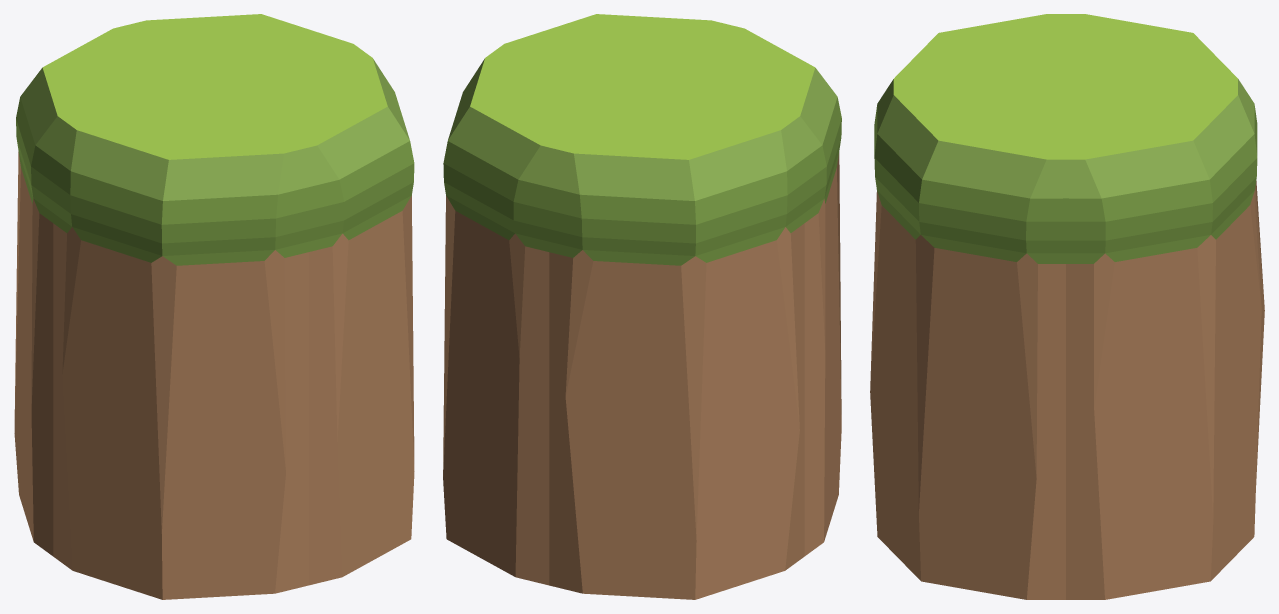
File: Single.fbx
The picture shows the model from 3 angles, left to right: view 1: azimuth 30°, elevation 25°; view 2: azimuth 150°, elevation 25°; view 3: azimuth 270°, elevation 25°; orthographic projection.
Parts seen in each view (by area): view 1: Cube.151; view 2: Cube.151; view 3: Cube.151.
Boxes of the visible parts, box(x1,y1,x2,y2) form: Cube.151: box(14, 14, 414, 599); Cube.151: box(443, 14, 841, 599); Cube.151: box(870, 14, 1264, 599).
Size of the model in its own units: 0.8256 by 0.8252 by 1.
